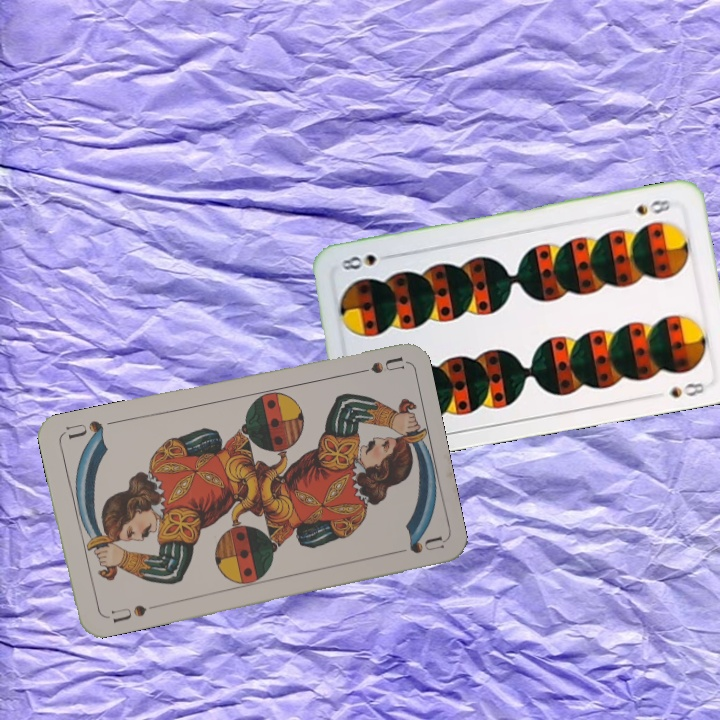S8: (632, 195, 679, 218)
SU: (345, 352, 405, 378), (100, 601, 149, 626)
